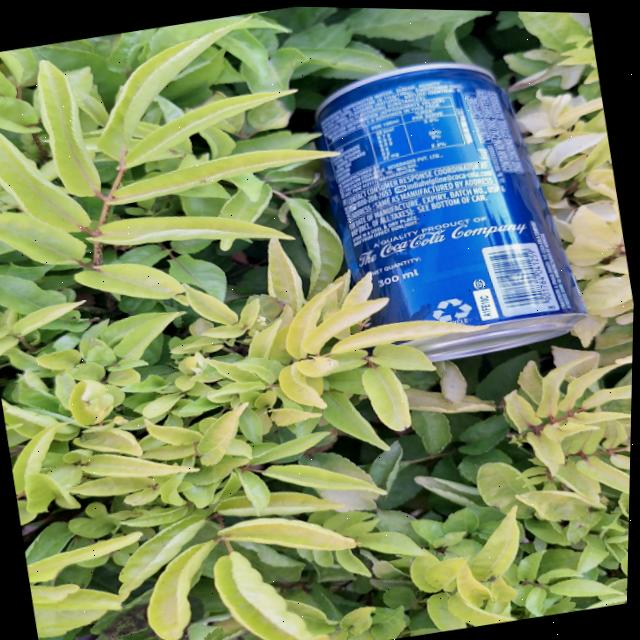Thums Up: (289, 36, 590, 375)
